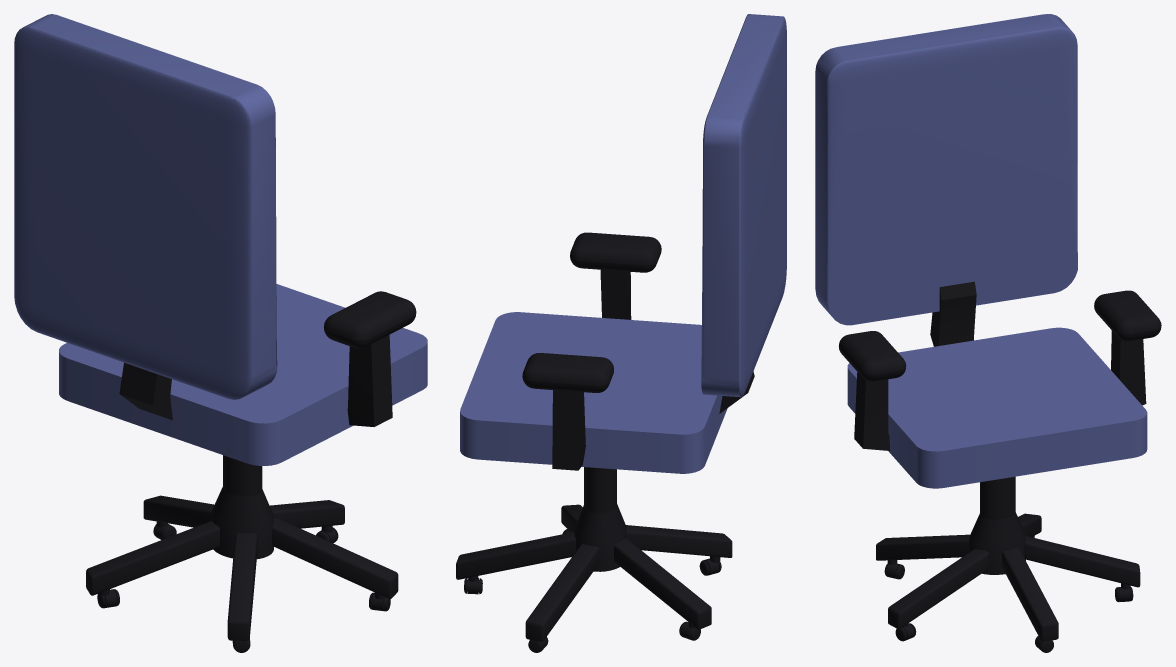
File: bedroom13.glb
3 views of the same model, side by side, from view 1: azimuth 30°, elevation 25°; view 2: azimuth 150°, elevation 25°; view 3: azimuth 270°, elevation 25° (orthographic). The views are drawn at different scales.
Parts seen in each view (by area): view 1: Cube.008; view 2: Cube.008; view 3: Cube.008.
Boxes of the visible parts, box(x1,y1,x2,y2) form: Cube.008: box(14, 14, 427, 652); Cube.008: box(456, 14, 786, 652); Cube.008: box(815, 14, 1161, 652).
Bounding box in the file's own units: 2.72 × 4.55 × 2.79.
